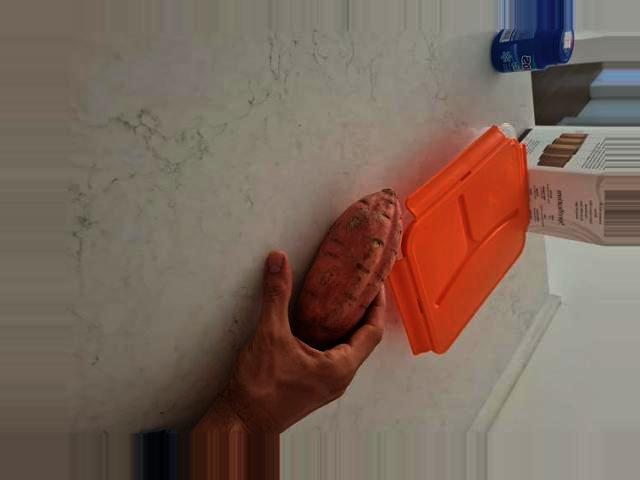sweet_potato: (290, 188, 403, 341)
